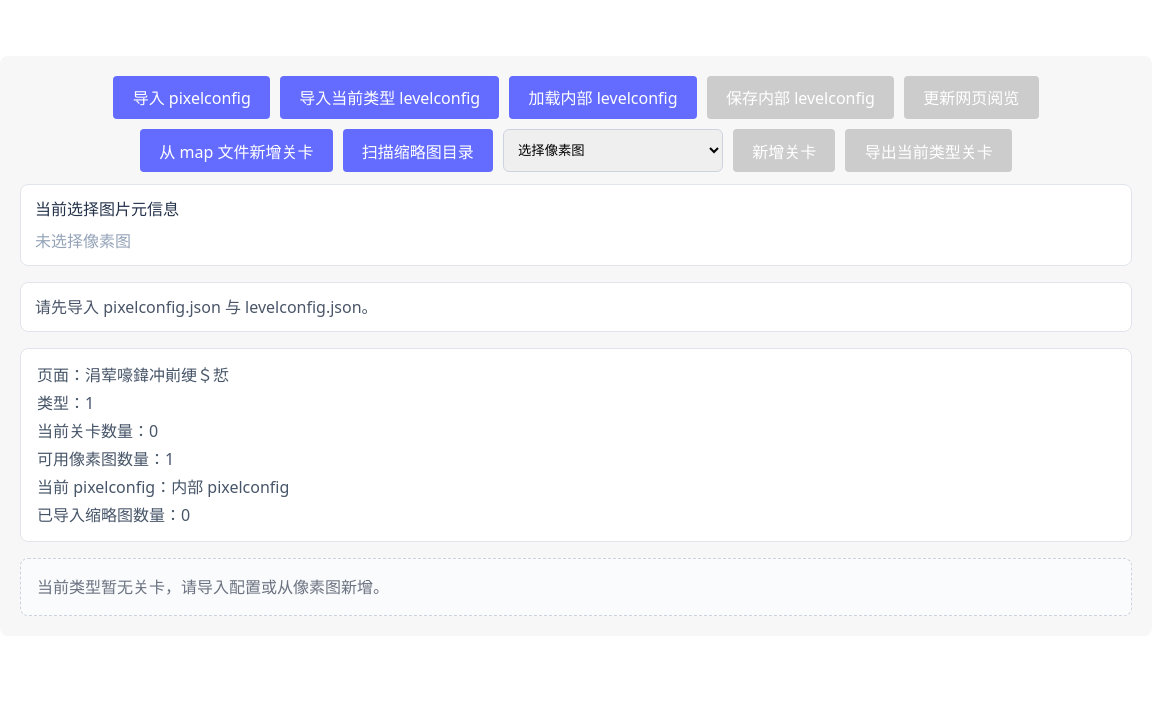
Test case: LevelConfigPage › auto-loads internal pixelconfig so internal level rows are associated
Click the button "加载内部 levelconfig": (603,97) [509,76,697,119]
(page scrolled)
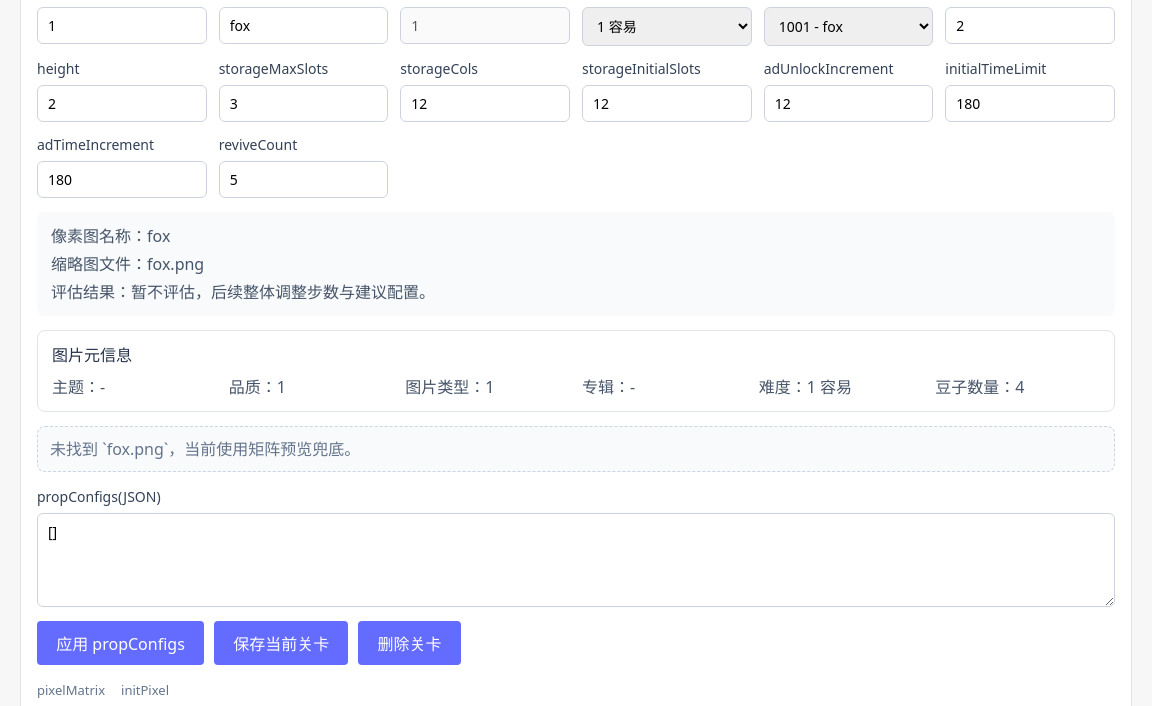
Now the text "fox" is shown, box [147,225,170,247]
Now the text "豆子数量：4" is shown, box [935,376,1024,398]
